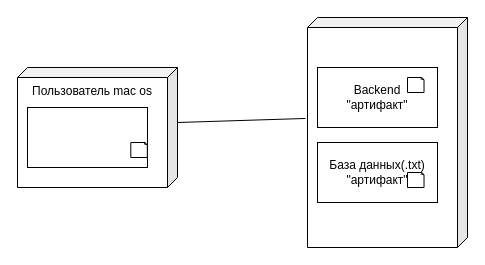
This 485x265 diagram has some shape labels left out. The box of each missing label's shape, as (x1, y1, x2, y2) in pixels:
Пользовательский интерфейс "артифакт": (26, 106, 148, 168)
Сервер приложения: (306, 16, 468, 248)
